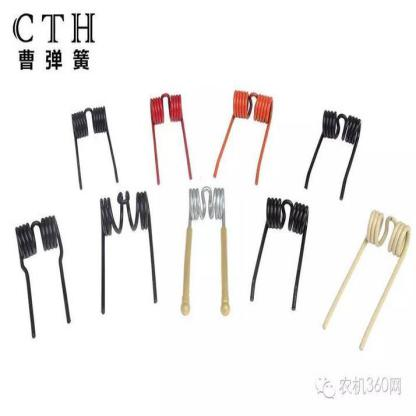FOD: (320, 205, 412, 352), (97, 188, 160, 317), (13, 213, 71, 339), (70, 104, 121, 189)
